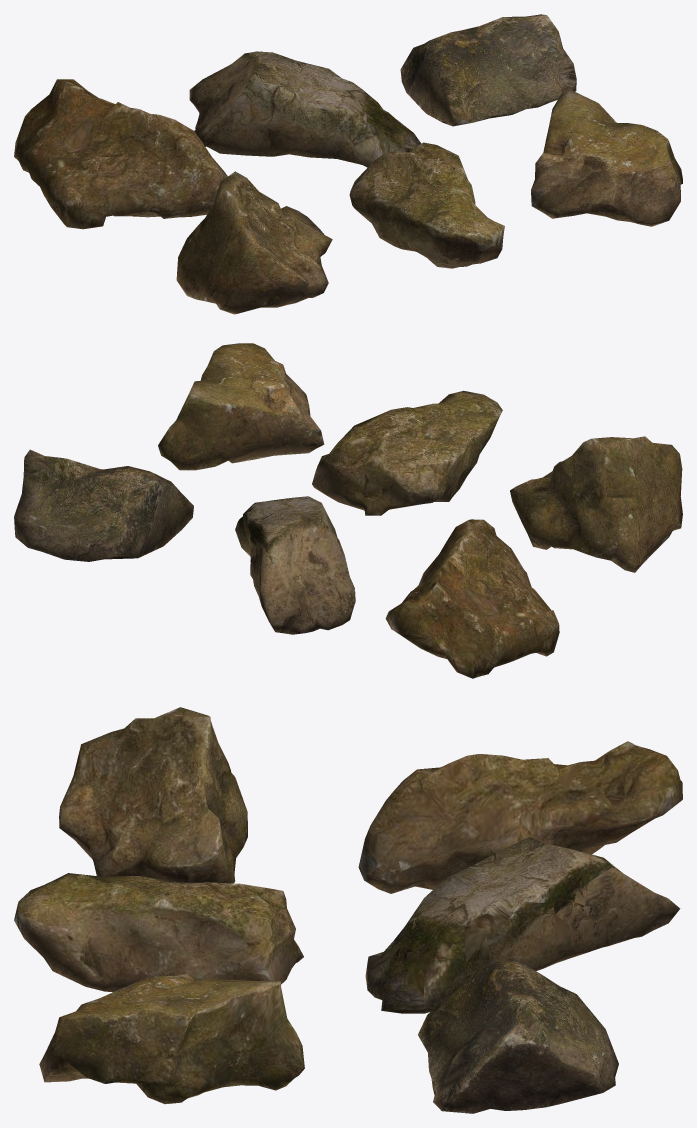
3 renders of one model, top to bottom at view 1: azimuth 30°, elevation 25°; view 2: azimuth 150°, elevation 25°; view 3: azimuth 270°, elevation 25°, orthographic. The views are drawn at different scales.
Visible parts, largest first — view 1: rock_moss_set_01_rock01; view 2: rock_moss_set_01_rock01; view 3: rock_moss_set_01_rock01.
Boxes of the visible parts, x1=… form: rock_moss_set_01_rock01: x1=14, y1=14, x2=682, y2=314; rock_moss_set_01_rock01: x1=14, y1=343, x2=682, y2=678; rock_moss_set_01_rock01: x1=14, y1=707, x2=682, y2=1113.
Size of the model in its own units: 8.02 by 1.77 by 6.93.
Materials: 1 (1 with a texture image).
